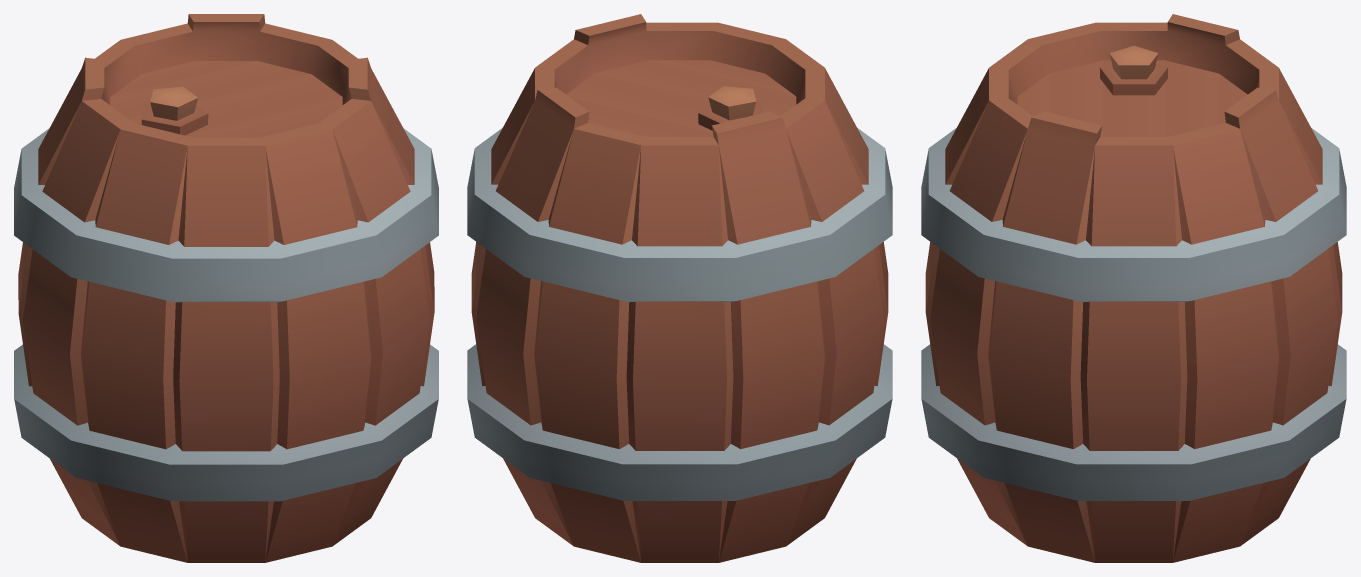
File: barrel_large.glb
3 renders of one model, left to right at view 1: azimuth 30°, elevation 25°; view 2: azimuth 150°, elevation 25°; view 3: azimuth 270°, elevation 25°, orthographic.
Visible parts, largest first — view 1: barrel_large; view 2: barrel_large; view 3: barrel_large.
Boxes of the visible parts, <box> form: barrel_large: <box>14,14,438,562</box>; barrel_large: <box>467,14,892,562</box>; barrel_large: <box>921,14,1346,562</box>.
Bounding box in the file's own units: 1.8 × 2 × 1.8.
1 material, 1 textured.
